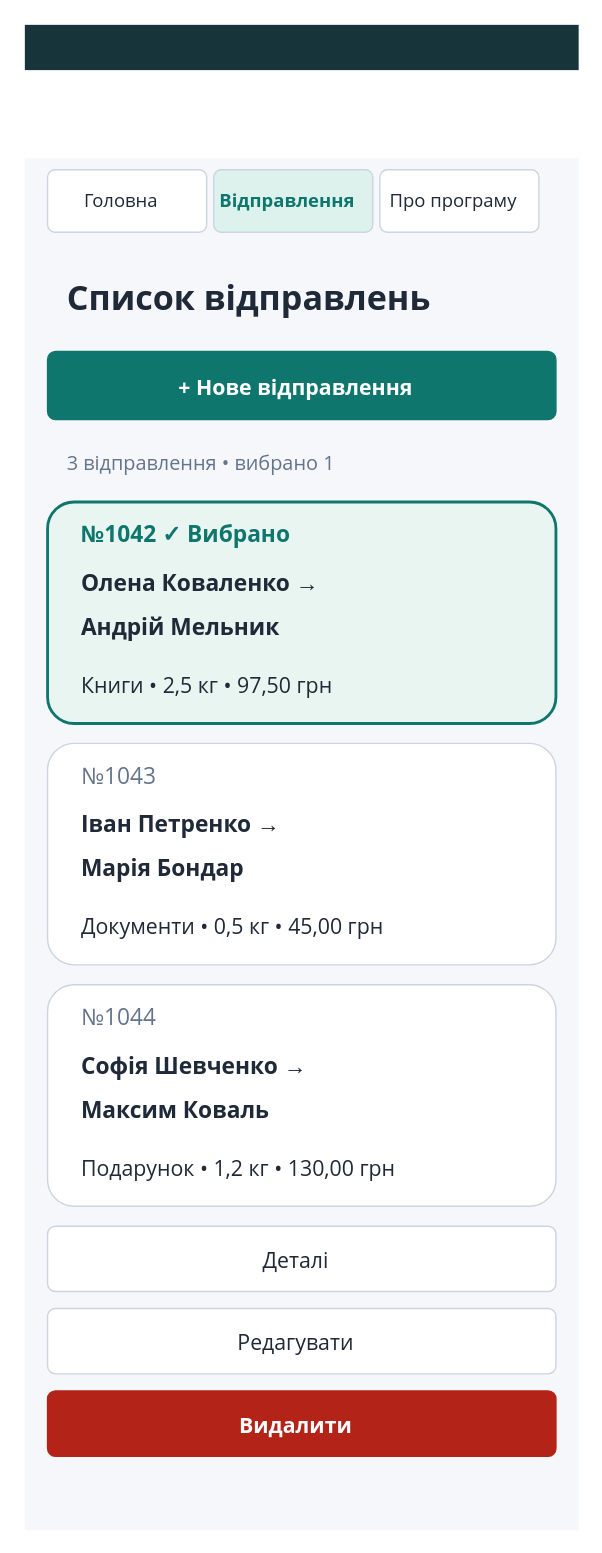
The diagram is 602 pixels wide and 1553 high, and some of its shapes have lost their labels. The centre of each missing label's shape, as x and y in pixels:
"9:41 4G 100%" belongs at [301,47].
"PostService" belongs at [301,114].
